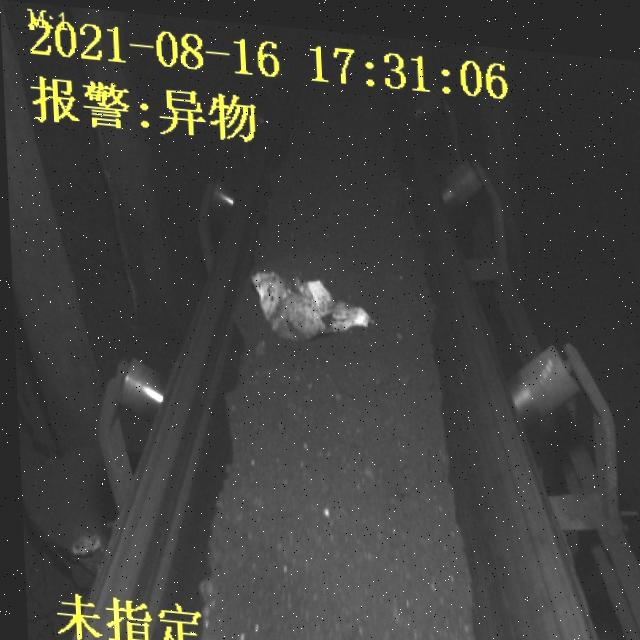Other_garbage: (251, 264, 375, 338)
